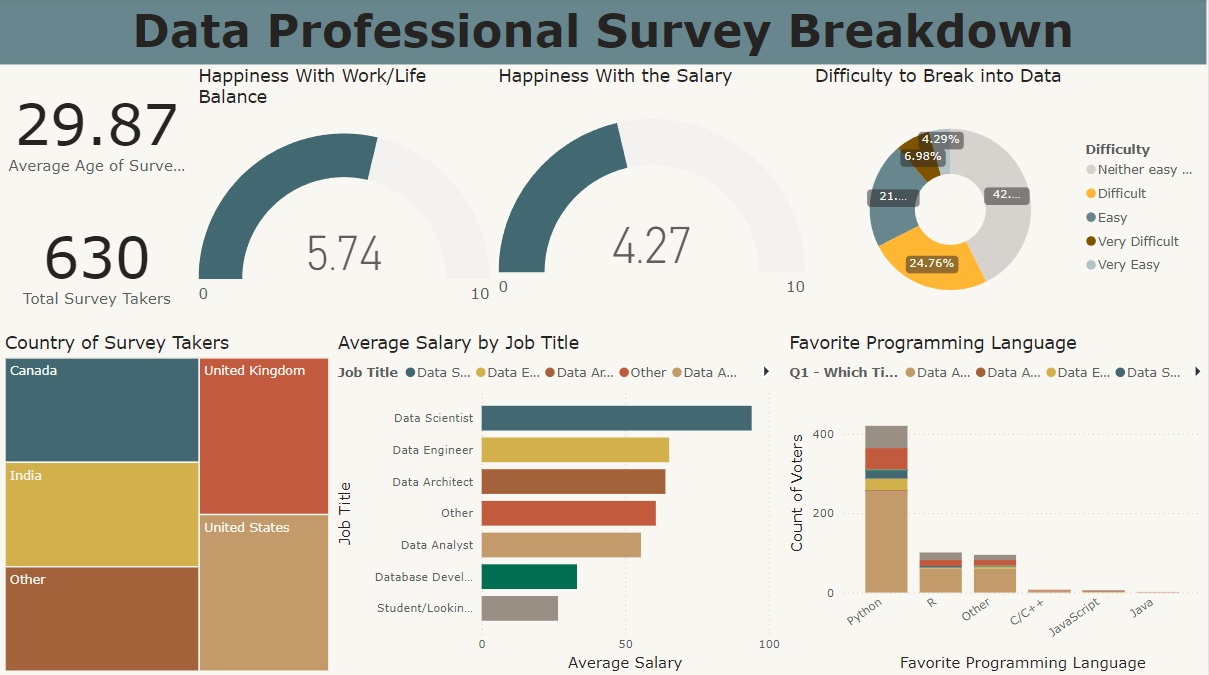

This screenshot's page, from the dashboard's own definition file:
{"tool":"powerbi","page":{"name":"Page 1","canvas":[1280,720],"ordinal":0},"visuals":[{"type":"textbox","box":[0,0,1279.4,71.8],"z":0},{"type":"card","fields":{"Values":["CountNonNull(Data Professional Survey.Unique ID)"]},"box":[0,208,204.7,146.9],"z":1000},{"type":"card","fields":{"Values":["Avg(Data Professional Survey.Q10 - Current Age)"]},"box":[0,71,204.7,137],"z":2000},{"type":"barChart","title":"Average Salary by Job Title","fields":{"Category":["Data Professional Survey.Q1 - Which Title Best Fits your Current Role?.1"],"Y":["Avg(Data Professional Survey.Average Salary)"],"Series":["Data Professional Survey.Q1 - Which Title Best Fits your Current Role?.1"]},"box":[353.3,354.9,478.8,364.9],"z":3000},{"type":"columnChart","title":"Favorite Programming Language","fields":{"Category":["Data Professional Survey.Q5 - Favorite Programming Language.1"],"Y":["CountNonNull(Data Professional Survey.Unique ID)"],"Series":["Data Professional Survey.Q1 - Which Title Best Fits your Current Role?.1"]},"box":[832.1,354.9,447.4,364.9],"z":4000},{"type":"treemap","title":"Country of Survey Takers","fields":{"Group":["Data Professional Survey.Q11 - Which Country do you live in?.1"],"Values":["Count(Data Professional Survey.Q11 - Which Country do you live in?.1)"]},"box":[0,354.9,353.3,364.9],"z":5000},{"type":"gauge","title":"Happiness With the Salary","fields":{"Y":["Avg(Data Professional Survey.Q6 - How Happy are you in your Current Position with the following? (Salary))"],"MinValue":["Min(Data Professional Survey.Q6 - How Happy are you in your Current Position with the following? (Salary))1"],"MaxValue":["Max(Data Professional Survey.Q6 - How Happy are you in your Current Position with the following? (Salary))2"]},"box":[523.3,71,335.1,284],"z":6000},{"type":"gauge","title":"Happiness With Work/Life Balance","fields":{"Y":["Avg(Data Professional Survey.Q6 - How Happy are you in your Current Position with the following? (Work/Life Balance))"],"MinValue":["Min(Data Professional Survey.Q6 - How Happy are you in your Current Position with the following? (Work/Life Balance))1"],"MaxValue":["Max(Data Professional Survey.Q6 - How Happy are you in your Current Position with the following? (Work/Life Balance))2"]},"box":[204.7,71,318.6,284],"z":7000},{"type":"donutChart","title":"Difficulty to Break into Data","fields":{"Category":["Data Professional Survey.Q7 - How difficult was it for you to break into Data?"],"Y":["CountNonNull(Data Professional Survey.Q7 - How difficult was it for you to break into Data?)"]},"box":[858.5,71,421,284],"z":8000}]}

Visuals, with their boxes in screenshot pixels (x1, y1, x2, y2), scaled from the page's 1280x720 canvas onto the 1209x675 screenshot:
textbox: [0, 0, 1208, 67]
card - CountNonNull(Data Professional Survey.Unique ID): [0, 195, 193, 333]
card - Avg(Data Professional Survey.Q10 - Current Age): [0, 67, 193, 195]
"Average Salary by Job Title" barChart: [334, 333, 786, 674]
"Favorite Programming Language" columnChart: [786, 333, 1208, 674]
"Country of Survey Takers" treemap: [0, 333, 334, 674]
"Happiness With the Salary" gauge: [494, 67, 811, 333]
"Happiness With Work/Life Balance" gauge: [193, 67, 494, 333]
"Difficulty to Break into Data" donutChart: [811, 67, 1208, 333]
